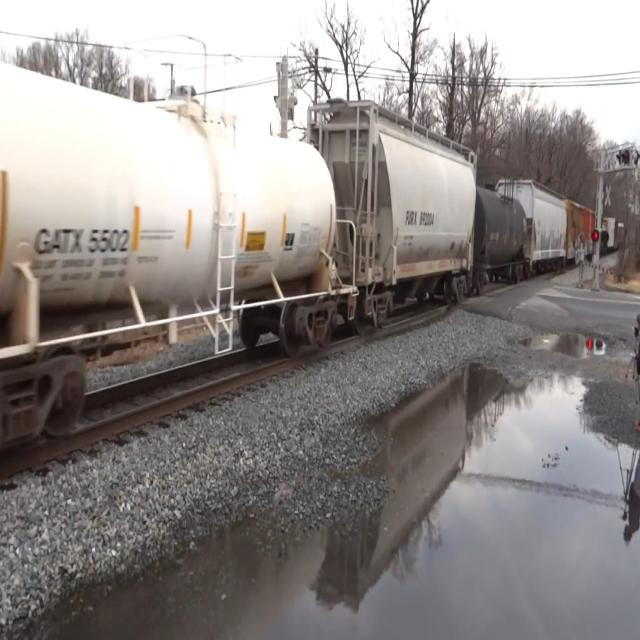hopper: (316, 94, 489, 340)
tank: (0, 28, 348, 460), (474, 178, 532, 293)
